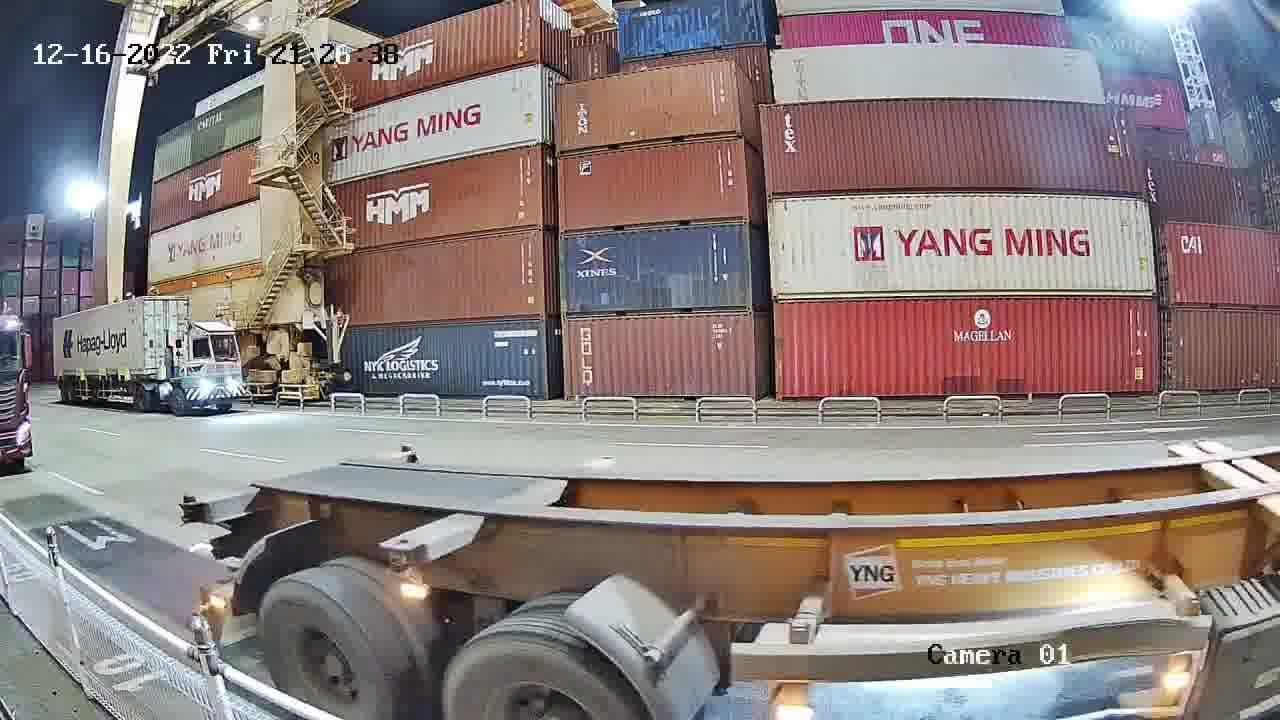Cone: (179, 493, 207, 523), (400, 442, 418, 466)
Tire: (257, 584, 392, 719), (444, 636, 636, 719)
